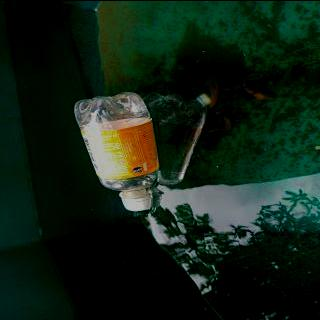bottle: (69, 89, 160, 212)
